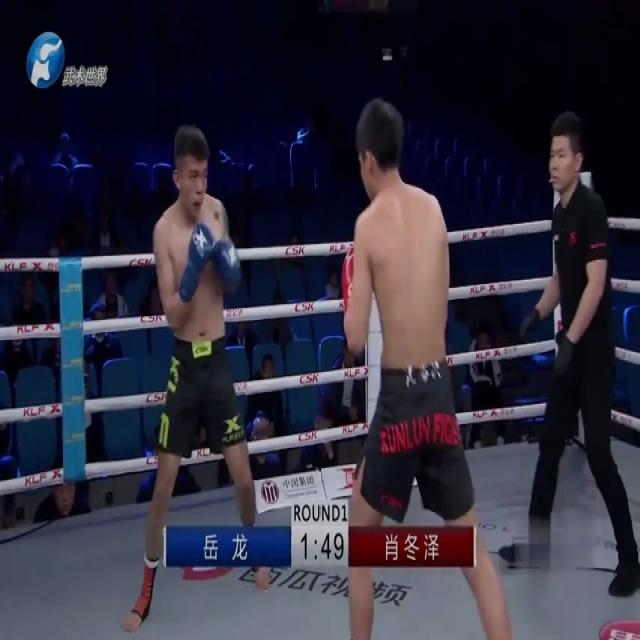fight: (122, 101, 514, 639)
non-fight: (502, 117, 640, 604)
